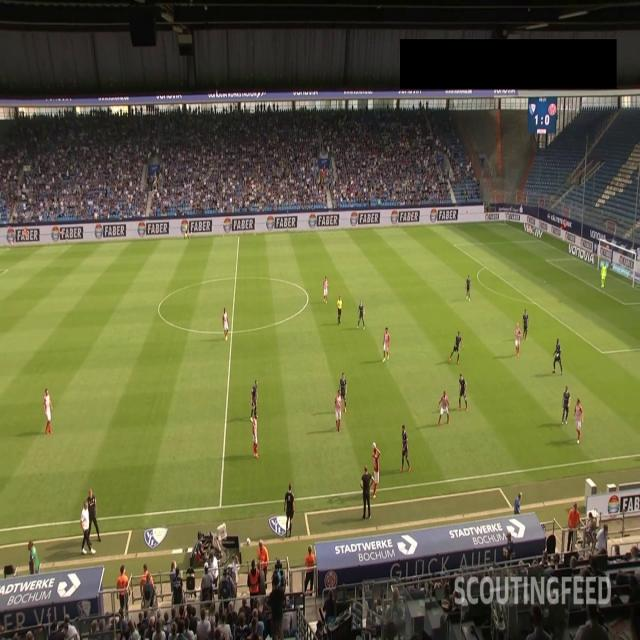ball: (370, 436, 378, 450)
player: (401, 420, 412, 472), (43, 387, 55, 433), (218, 305, 232, 339), (574, 397, 584, 442), (457, 375, 469, 409), (334, 392, 344, 430), (338, 372, 348, 410), (554, 334, 564, 370), (371, 447, 379, 491), (440, 391, 450, 425), (250, 382, 258, 418), (454, 329, 462, 365), (514, 318, 522, 353), (522, 307, 530, 342), (382, 326, 391, 356), (562, 381, 568, 426), (321, 274, 331, 300), (464, 273, 472, 301), (359, 303, 367, 330), (251, 418, 257, 452), (601, 260, 607, 292)
